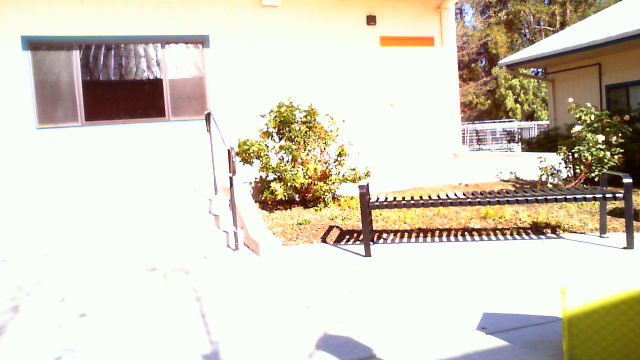cube: (560, 287, 640, 360)
